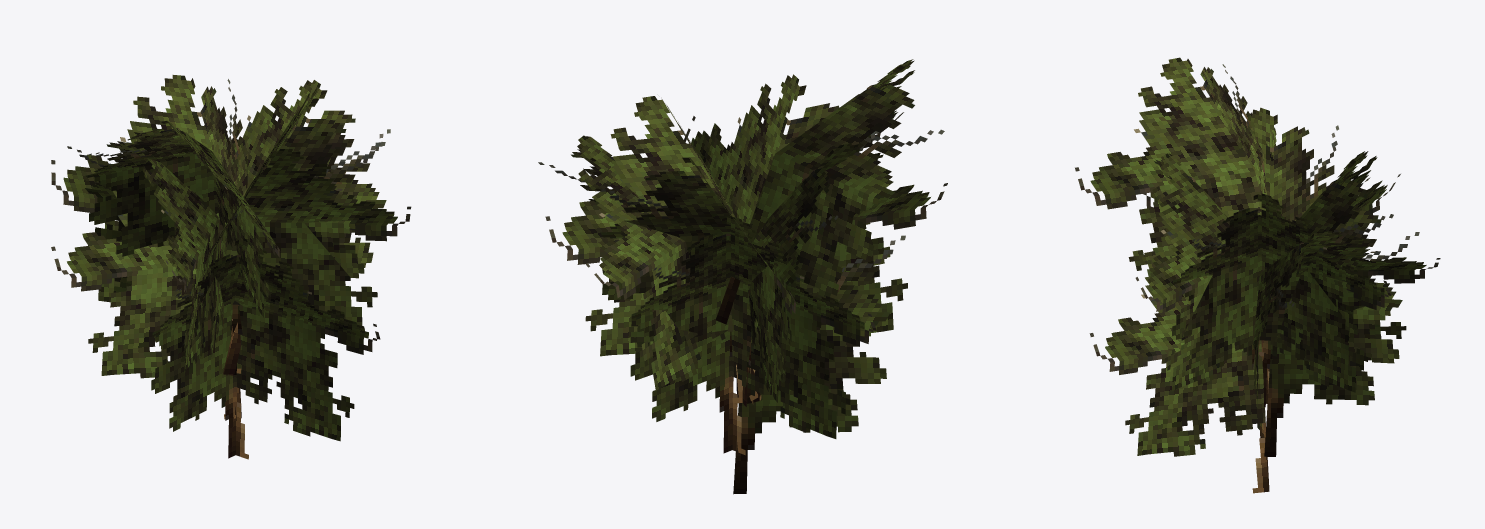
The model's file is sbushreg_0.obj.
3 views of the same model, side by side, from view 1: azimuth 30°, elevation 25°; view 2: azimuth 150°, elevation 25°; view 3: azimuth 270°, elevation 25° (orthographic). The views are drawn at different scales.
Visible parts, largest first — view 1: sbushreg_0; view 2: sbushreg_0; view 3: sbushreg_0.
Part boxes in pixels (left/top/right/bottom): sbushreg_0: left=51, top=75, right=411, bottom=459; sbushreg_0: left=538, top=59, right=947, bottom=494; sbushreg_0: left=1075, top=57, right=1440, bottom=493.
Size of the model in its own units: 2.88 by 2.53 by 2.5.
